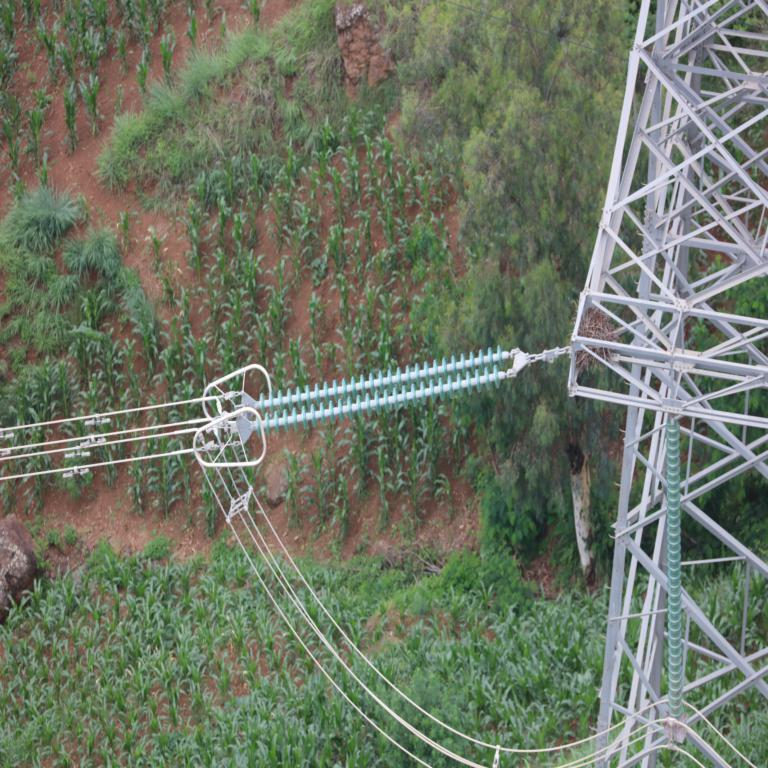nest: (575, 314, 617, 366)
